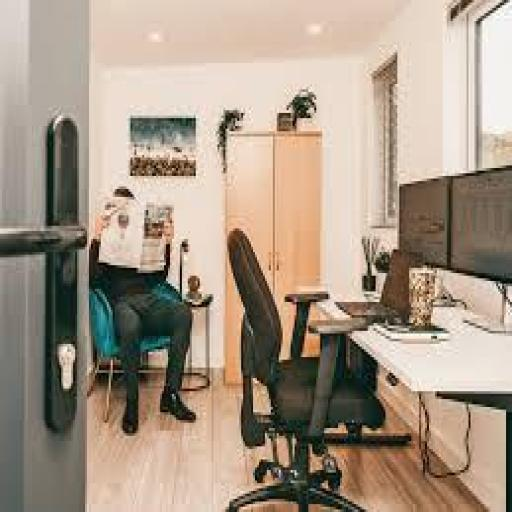chair: (224, 226, 390, 512)
